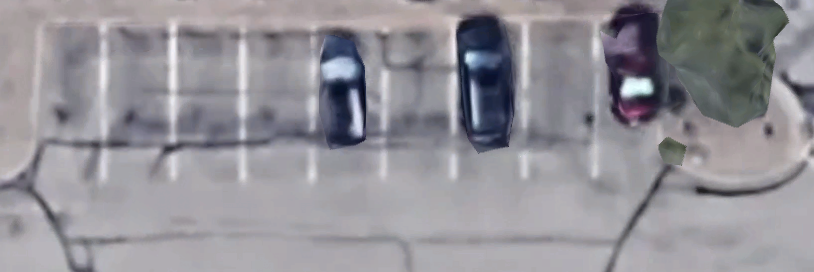Occupied: (314, 23, 385, 178), (454, 24, 525, 177), (597, 24, 662, 176)
Vacant: (104, 23, 174, 178), (385, 23, 455, 178), (174, 23, 243, 180), (525, 24, 596, 176), (244, 23, 313, 179), (37, 24, 104, 176)
